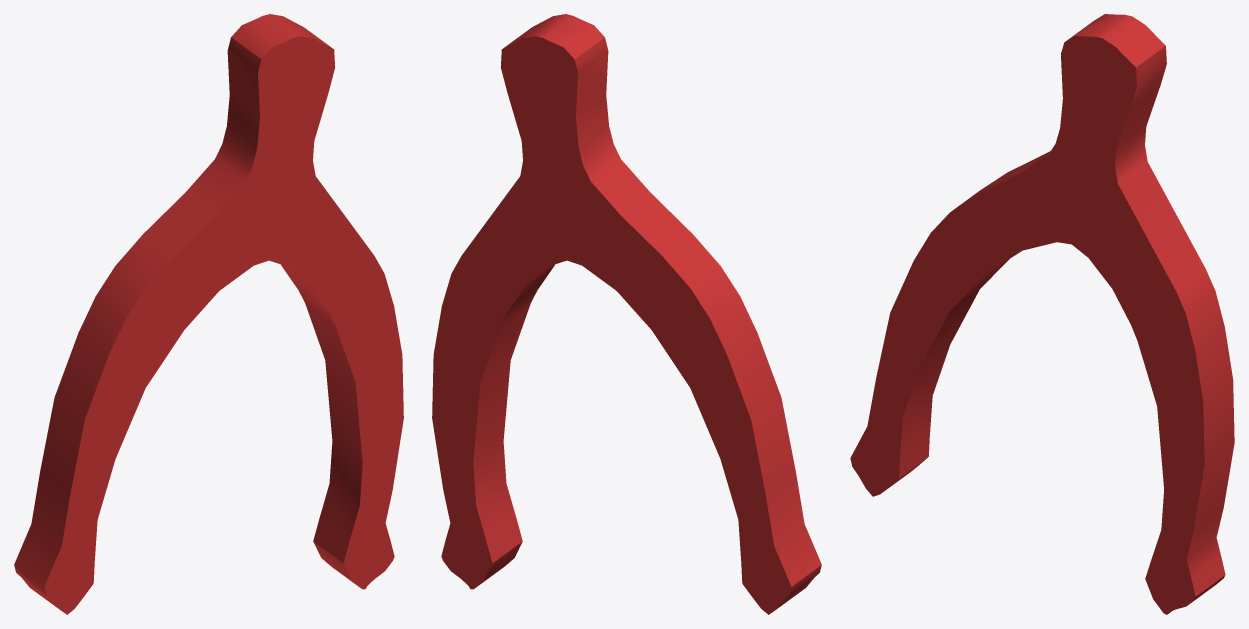
File: wish_bone_body.obj
3 renders of one model, left to right at view 1: azimuth 30°, elevation 25°; view 2: azimuth 150°, elevation 25°; view 3: azimuth 330°, elevation 25°, orthographic.
Visible parts, largest first — view 1: wish_bone_visual; view 2: wish_bone_visual; view 3: wish_bone_visual.
Part boxes in pixels (x1,y1,x2,y2): wish_bone_visual: (14, 14, 403, 614); wish_bone_visual: (432, 14, 821, 614); wish_bone_visual: (850, 14, 1234, 614).
Bounding box in the file's own units: 0.0137 × 0.0207 × 0.002.
